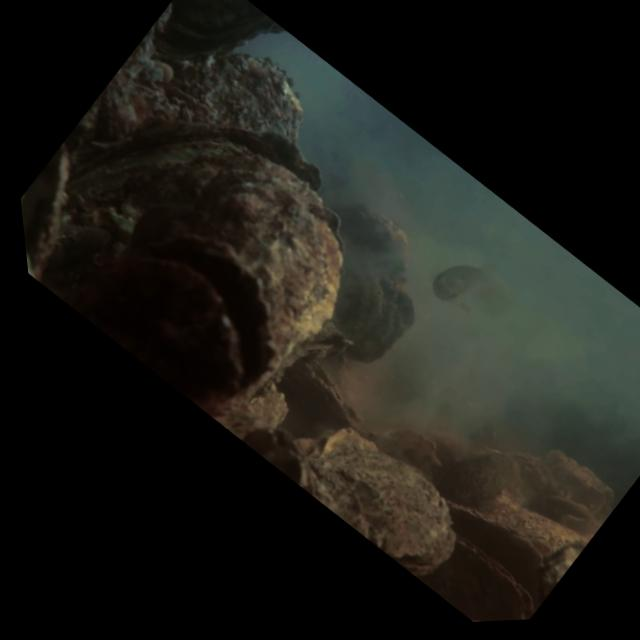Oyster-Closed: (186, 168, 344, 365), (71, 108, 330, 214), (294, 423, 463, 578), (440, 494, 543, 581), (451, 534, 536, 620), (27, 144, 68, 277), (292, 361, 366, 426)
Oyster-Indeterminate: (152, 50, 303, 152), (336, 204, 414, 369), (434, 447, 526, 514)
Oyster-Open: (111, 237, 279, 402), (523, 489, 596, 530)
